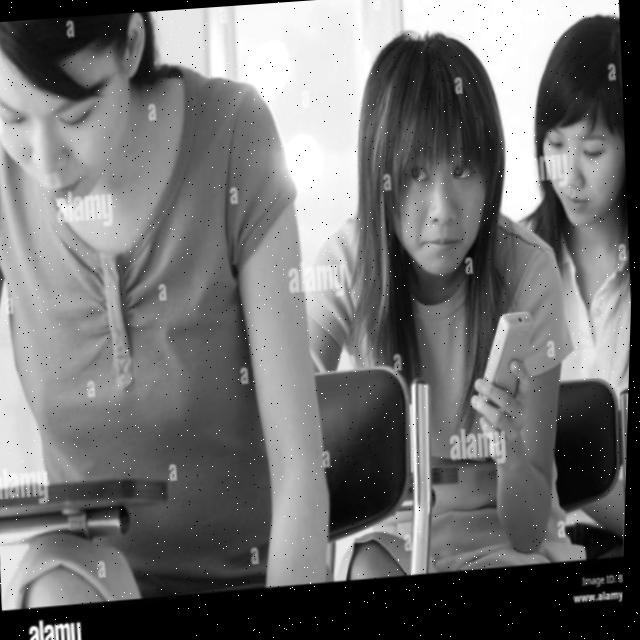phone: (471, 308, 542, 409)
